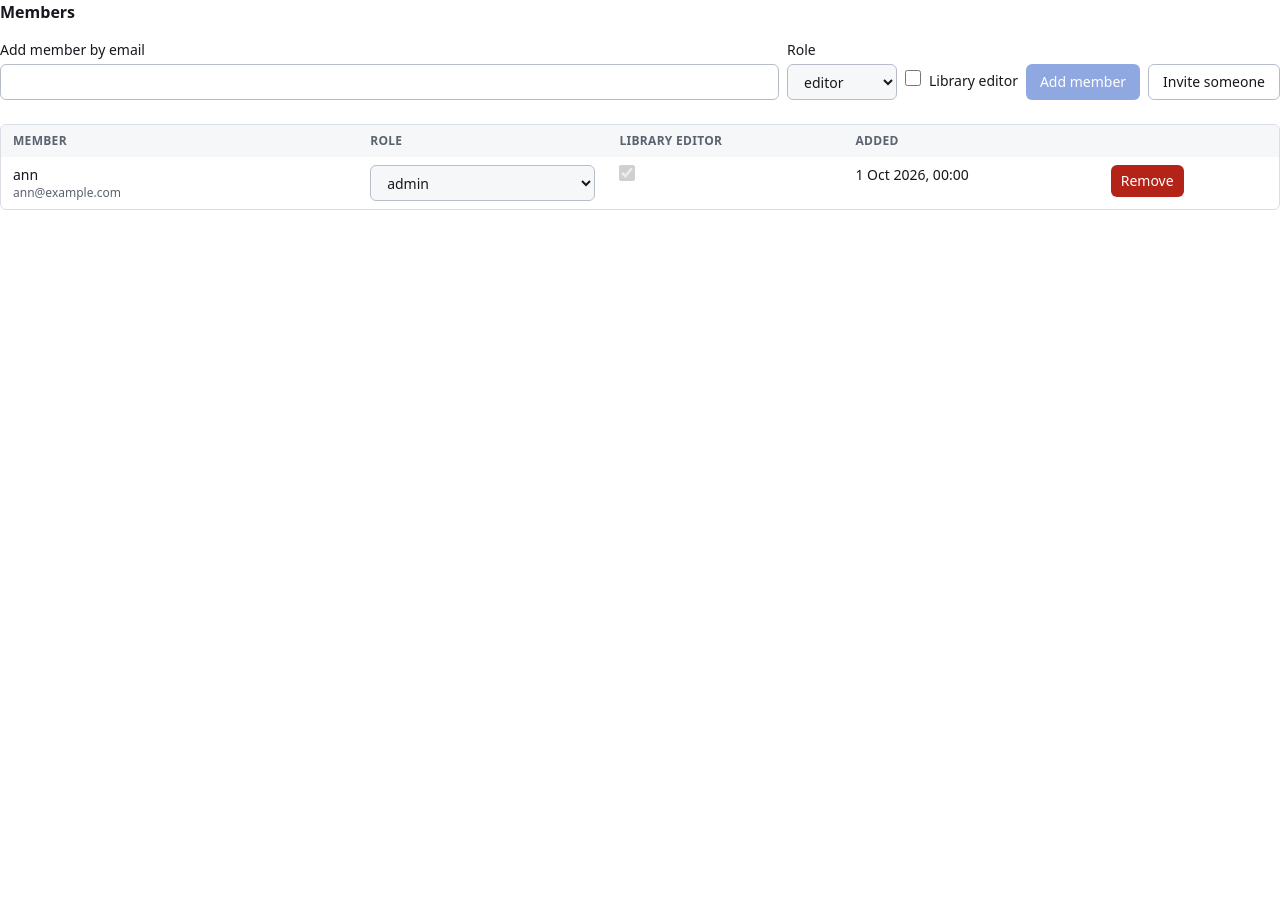
Test case: MembersPanel › offers an invite when the email has no account
This screenshot has width=1280, height=900.
Type "new@example.com" into the field labelled "Add member by email" at (390, 82), box [0, 64, 779, 100]
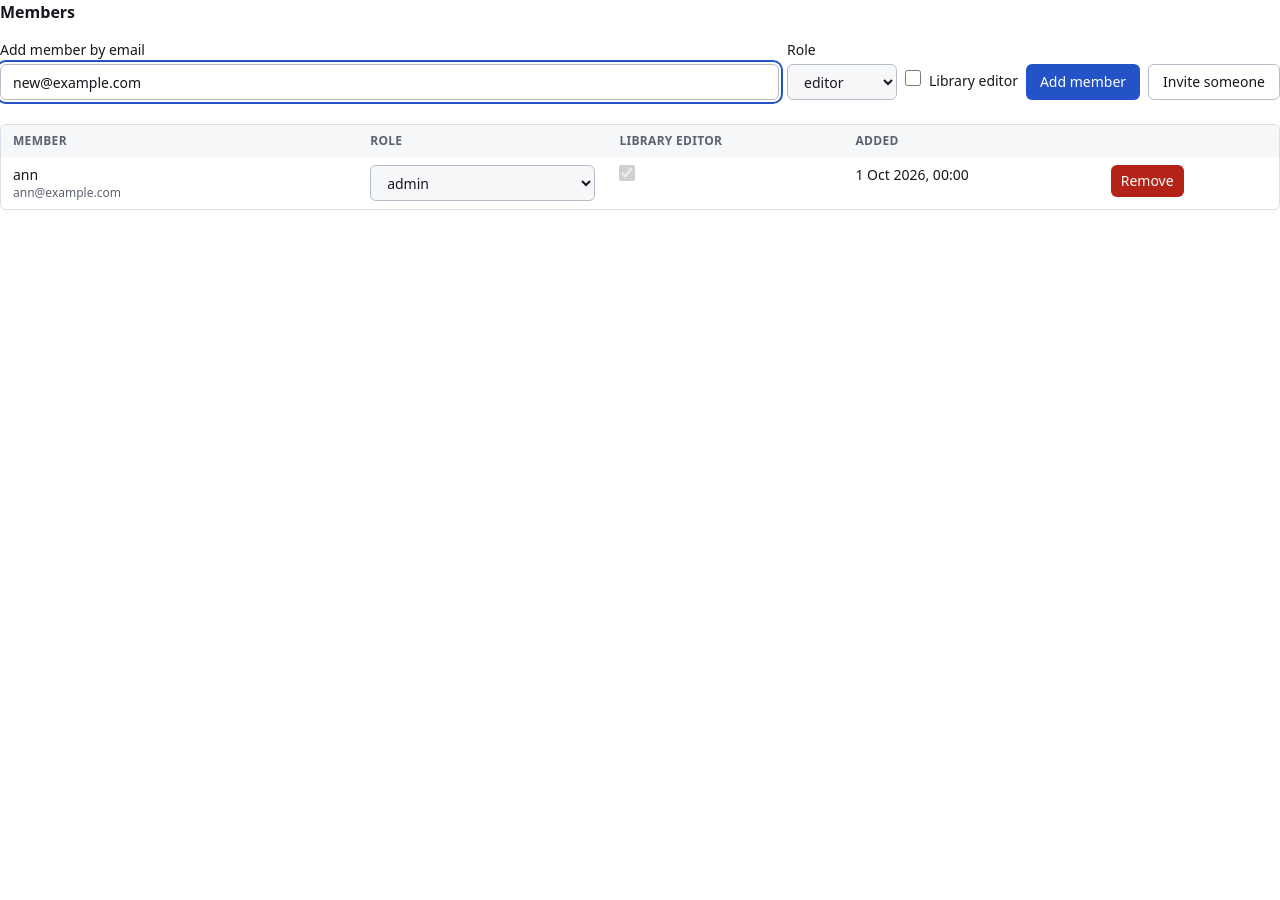
Click the button "Add member" at (1083, 82), box [1026, 64, 1140, 100]
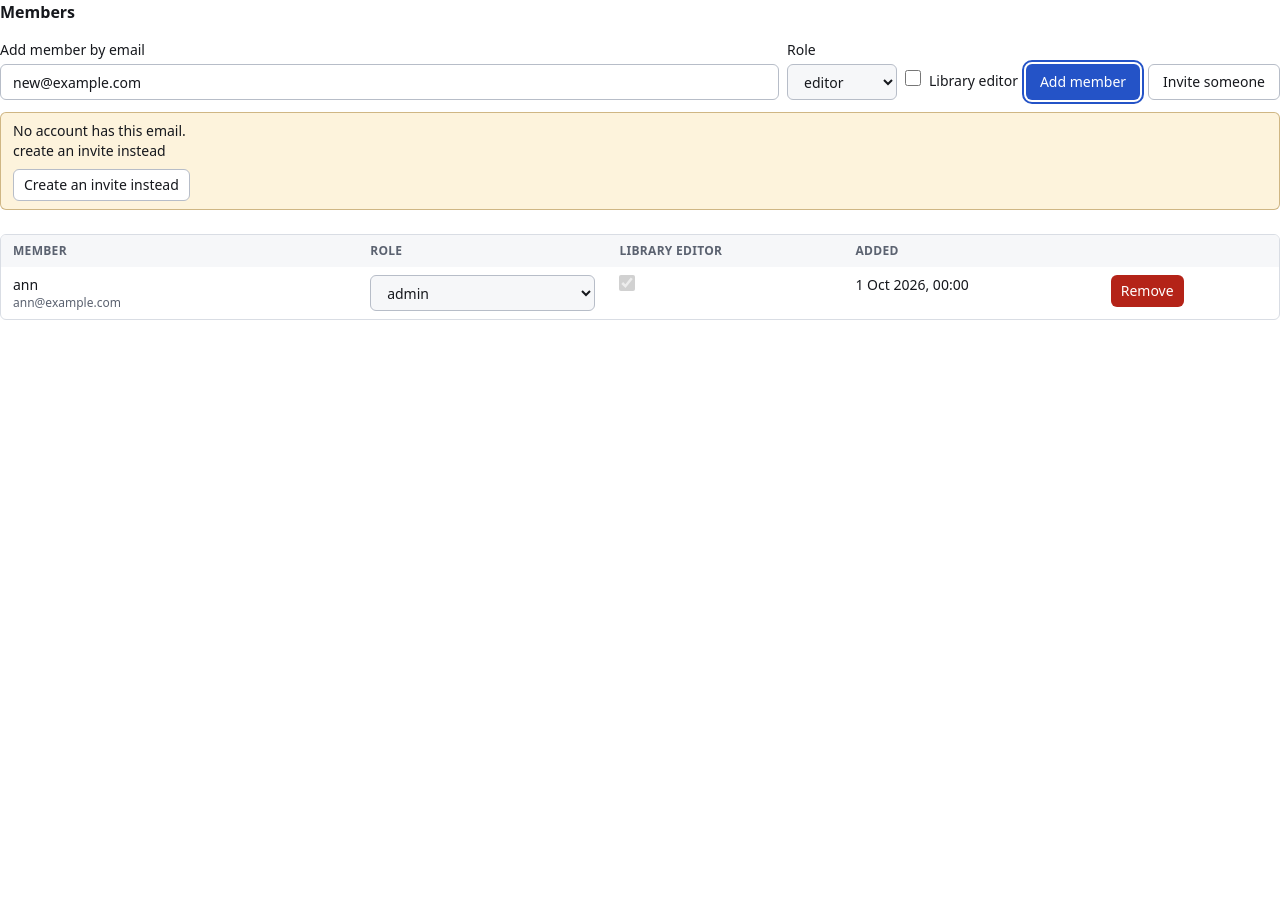
Click the button "Create an invite instead" at (101, 185), box [13, 169, 190, 201]
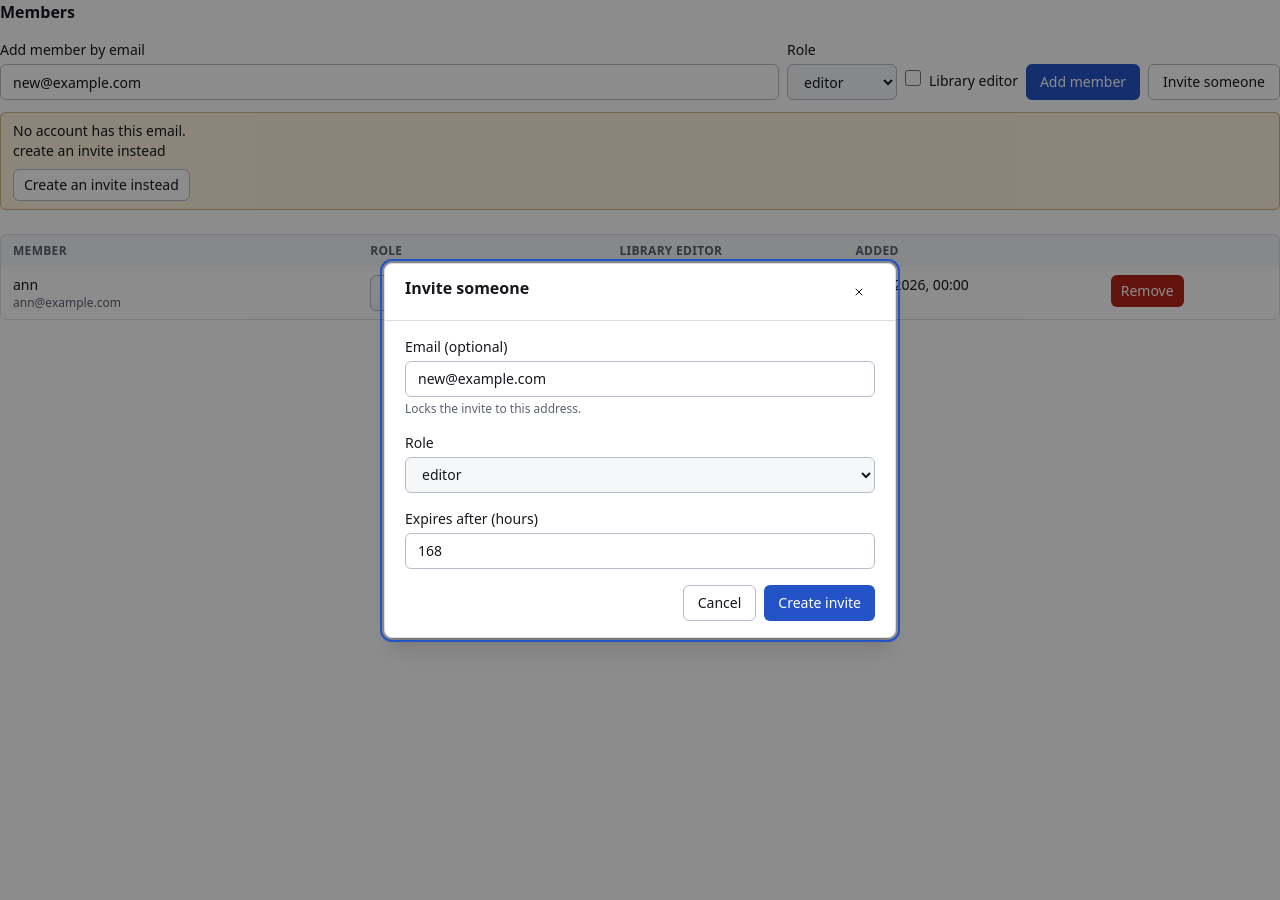
Expected: the dialog "Invite someone" is shown, [384, 262, 896, 638]
Expected: the field labelled "Email (optional)" holds "new@example.com", [405, 360, 875, 396]
